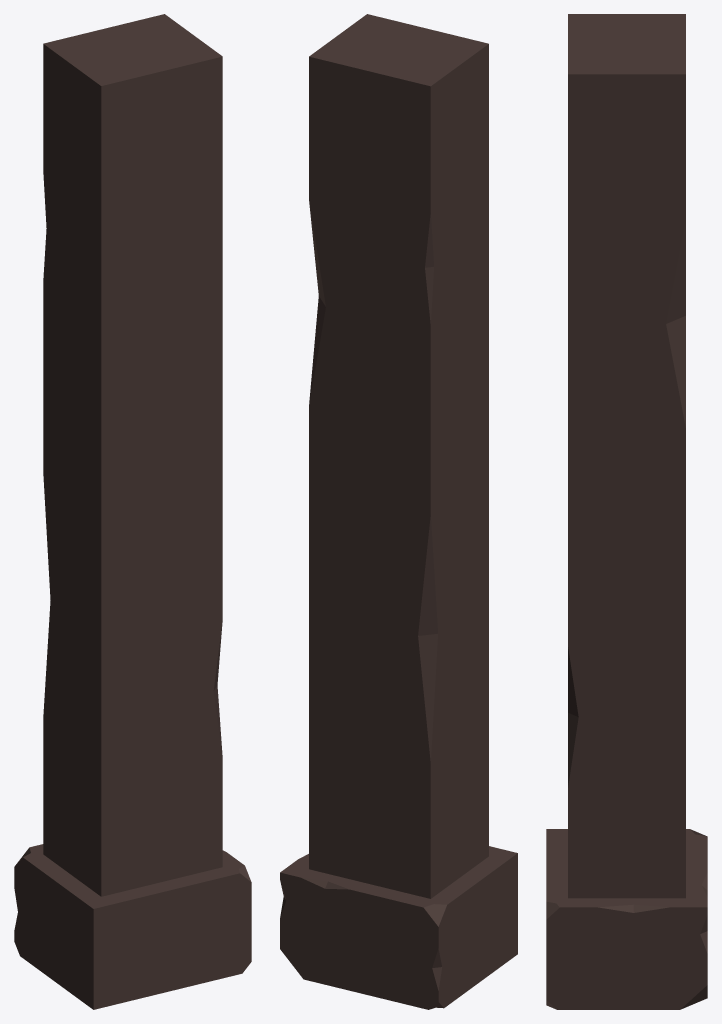
File: SM_Env_Pillar_03.fbx
3 views of the same model, side by side, from view 1: azimuth 30°, elevation 25°; view 2: azimuth 150°, elevation 25°; view 3: azimuth 270°, elevation 25° (orthographic).
Parts seen in each view (by area): view 1: SM_Env_Pillar_03; view 2: SM_Env_Pillar_03; view 3: SM_Env_Pillar_03.
Part boxes in pixels (left/top/right/bottom): SM_Env_Pillar_03: left=14, top=14, right=251, bottom=1009; SM_Env_Pillar_03: left=280, top=14, right=517, bottom=1009; SM_Env_Pillar_03: left=546, top=14, right=707, bottom=1009.
Bounding box in the file's own units: 37.61 × 207 × 32.64.
1 material, 1 textured.
